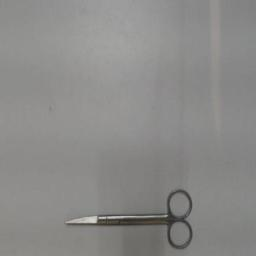Curved Mayo Scissors: (63, 186, 195, 252)
